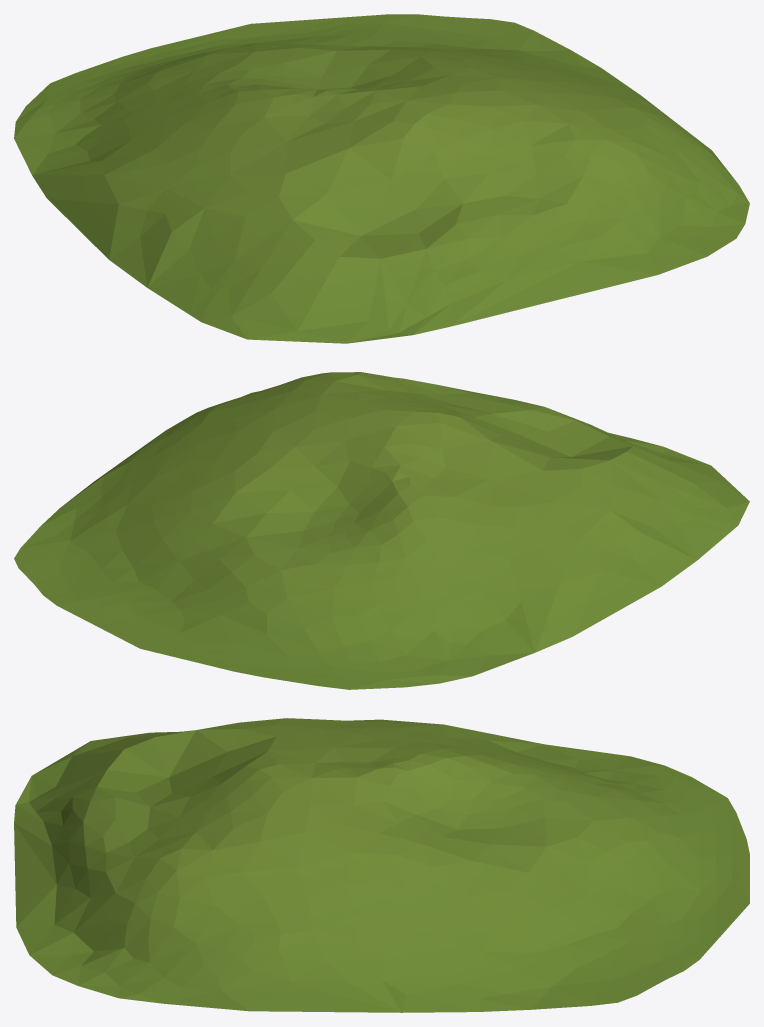
File: Hill_02.glb
The picture shows the model from 3 angles, top to bottom: view 1: azimuth 30°, elevation 25°; view 2: azimuth 150°, elevation 25°; view 3: azimuth 270°, elevation 25°; orthographic projection. The views are drawn at different scales.
Visible parts, largest first — view 1: Hill_02; view 2: Hill_02; view 3: Hill_02.
Part boxes in pixels (x1,y1,x2,y2): Hill_02: (14, 14, 749, 343); Hill_02: (14, 372, 749, 689); Hill_02: (14, 718, 749, 1012).
Bounding box in the file's own units: 57.28 × 9.24 × 62.98.
Materials: 1 (1 with a texture image).
